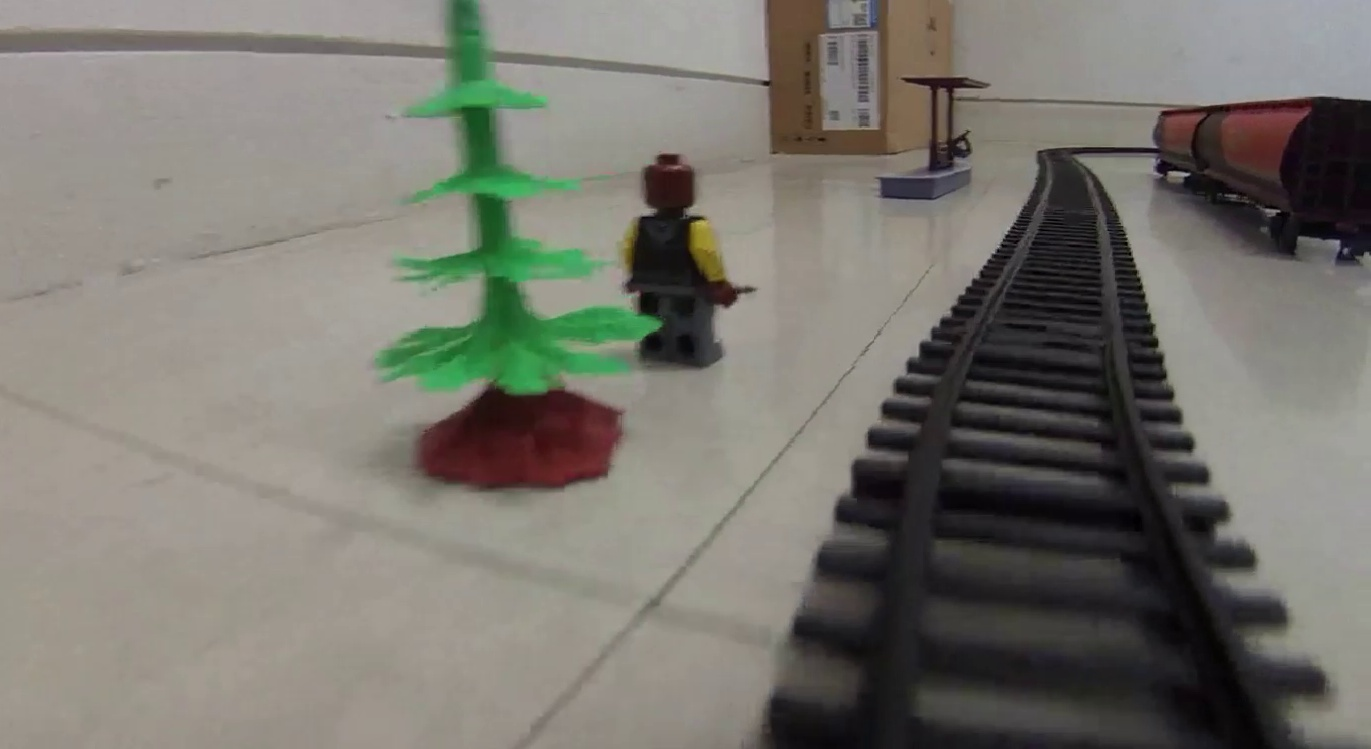people: (622, 151, 740, 371)
tree: (372, 4, 631, 486)
